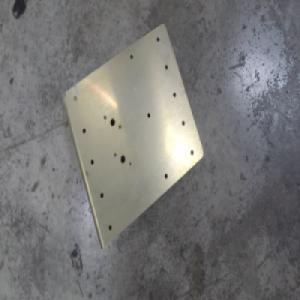MetalSheet: (61, 19, 204, 250)
